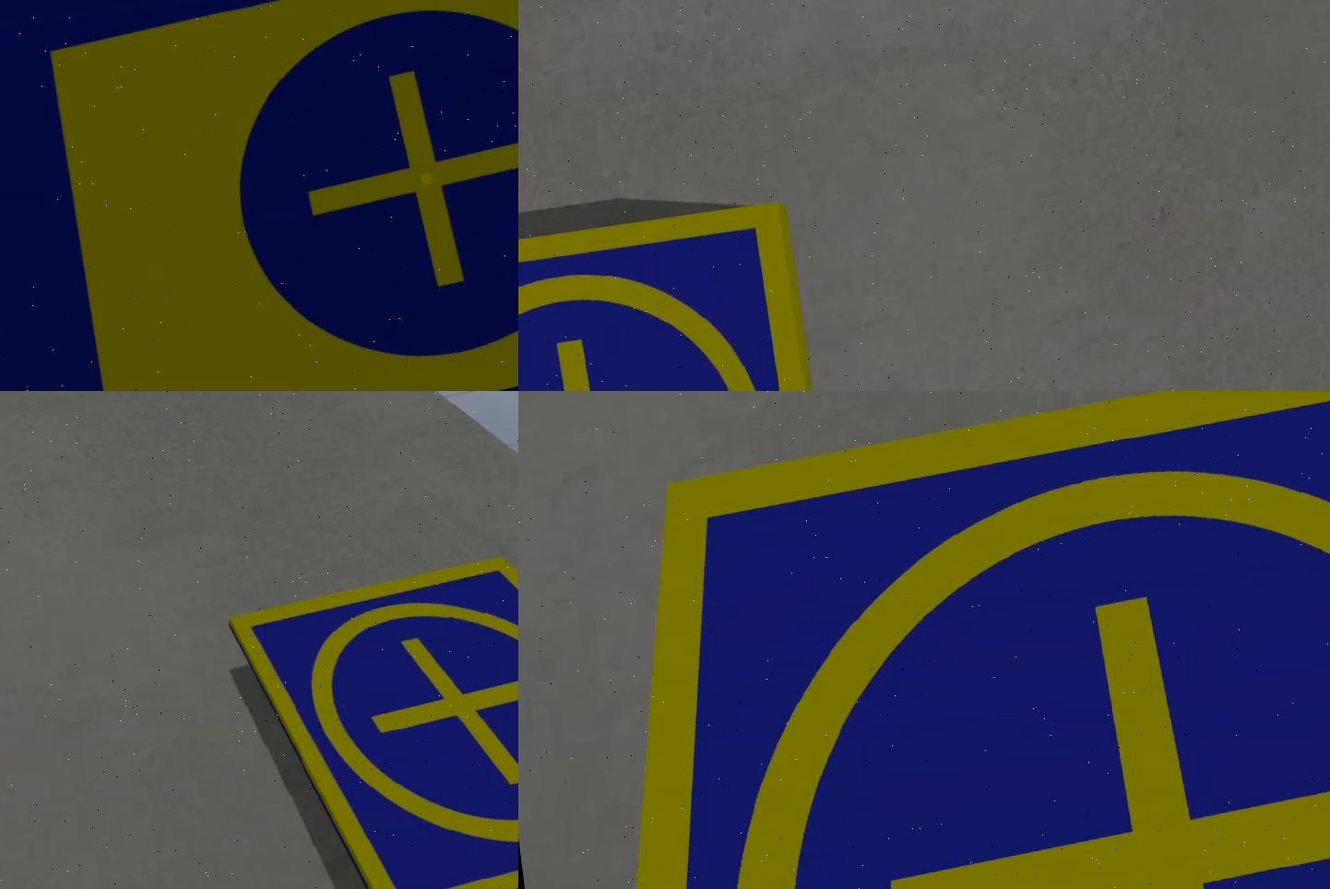large_base: (1, 1, 518, 391)
small_base: (548, 391, 1330, 889), (228, 535, 518, 889), (518, 196, 841, 391)
